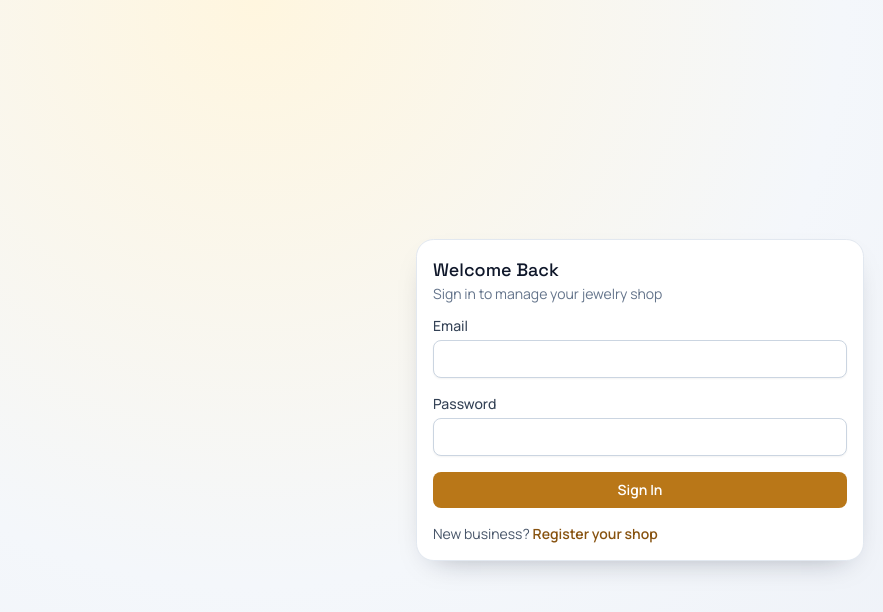
Test: LoginPage › shows validation errors instead of submitting an empty form
Click the button "Sign In". click: (640, 490)
box: [433,472,847,508]
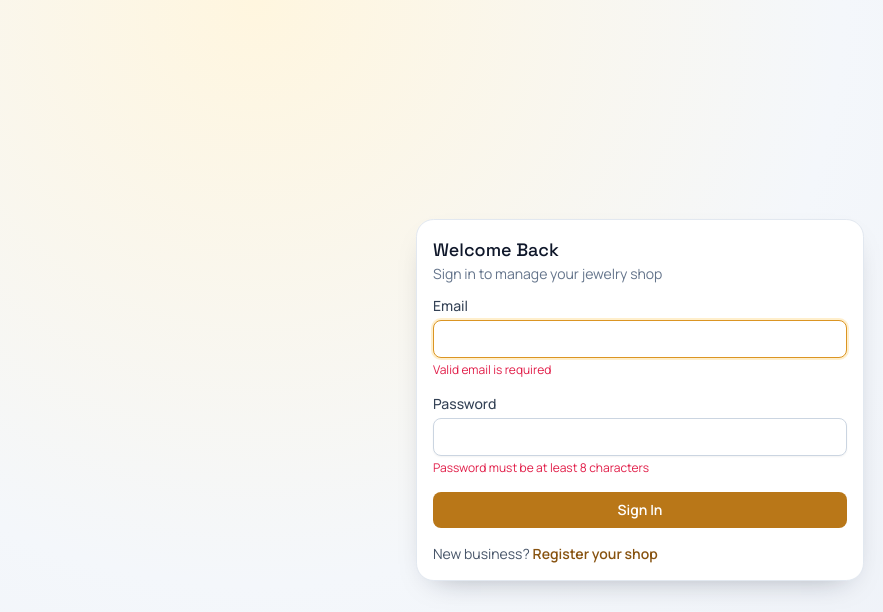
Expected: the text "Valid email is required" is shown, [433,361,551,378]
Expected: the text "Password must be at least 8 characters" is shown, [433,459,649,476]
